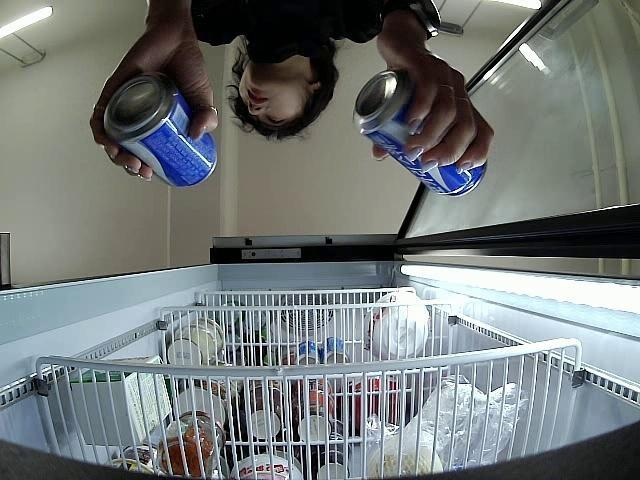13_pocariSweat: (352, 65, 488, 198), (102, 70, 218, 188)
